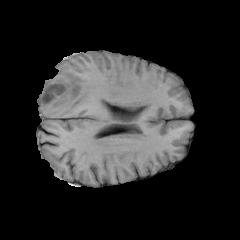glioma: (41, 71, 93, 113)
